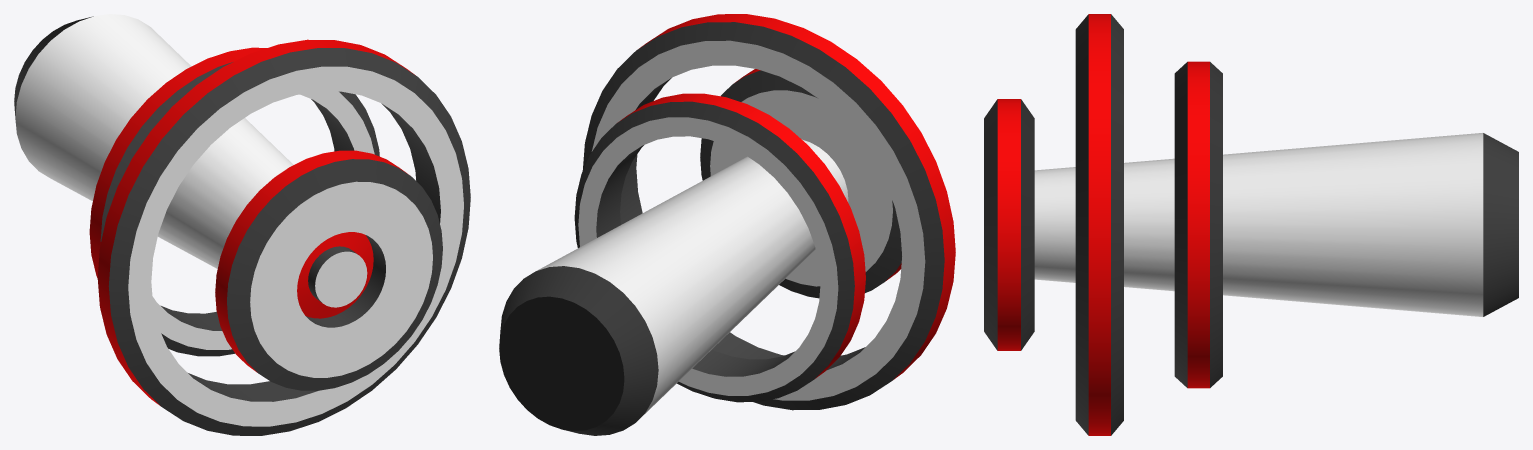
File: pylon.obj
3 renders of one model, left to right at view 1: azimuth 30°, elevation 25°; view 2: azimuth 150°, elevation 25°; view 3: azimuth 270°, elevation 25°, orthographic.
Parts seen in each view (by area): view 1: Tube002, Tube004, Cylinder008, Tube003; view 2: Cylinder008, Tube002, Tube003, Tube004; view 3: Cylinder008, Tube002, Tube003, Tube004.
Boxes of the visible parts, bbox=[...] form: Tube002: bbox=[97, 39, 470, 435]; Tube004: bbox=[215, 150, 442, 390]; Cylinder008: bbox=[14, 14, 373, 318]; Tube003: bbox=[89, 47, 379, 356]; Cylinder008: bbox=[499, 139, 848, 435]; Tube002: bbox=[582, 14, 955, 410]; Tube003: bbox=[574, 93, 865, 402]; Tube004: bbox=[700, 69, 901, 298]; Cylinder008: bbox=[1034, 133, 1518, 316]; Tube002: bbox=[1075, 14, 1123, 435]; Tube003: bbox=[1174, 61, 1222, 388]; Tube004: bbox=[984, 99, 1034, 350].
Bounding box in the file's own units: 1.66 × 1.66 × 2.1.
